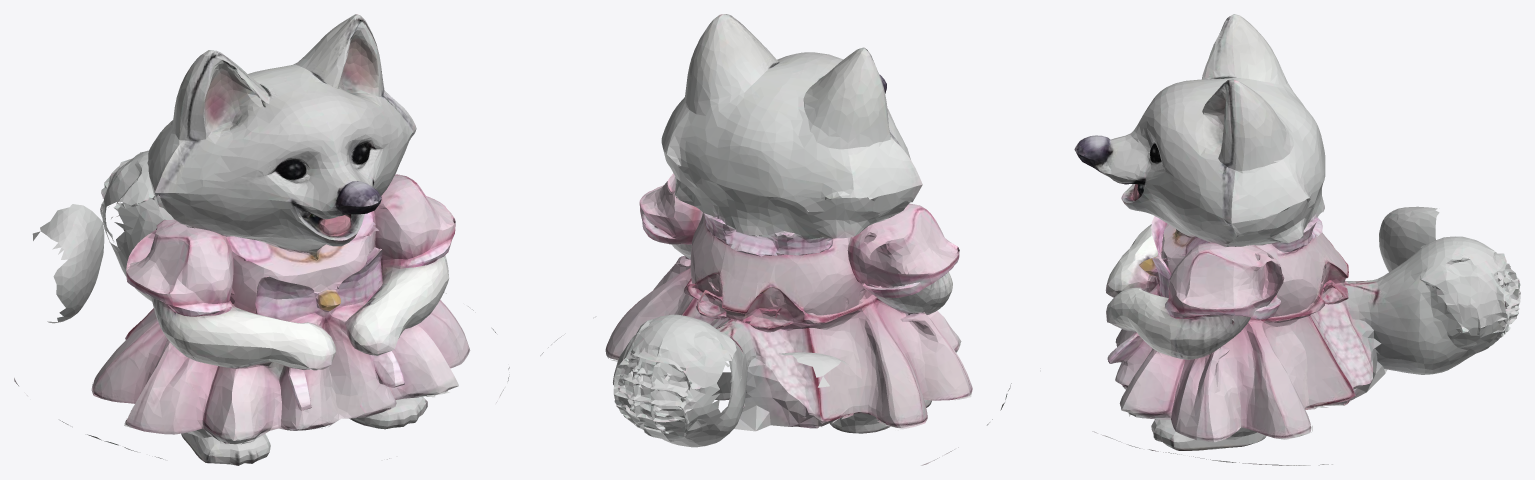
File: char_jujuya.glb
3 views of the same model, side by side, from view 1: azimuth 30°, elevation 25°; view 2: azimuth 150°, elevation 25°; view 3: azimuth 270°, elevation 25° (orthographic). The views are drawn at different scales.
Parts seen in each view (by area): view 1: char_jujuya_model; view 2: char_jujuya_model; view 3: char_jujuya_model.
Boxes of the visible parts, x1,y1,x2,y2 form: char_jujuya_model: (14, 14, 509, 465); char_jujuya_model: (540, 14, 1011, 465); char_jujuya_model: (1074, 14, 1520, 465).
Bounding box in the file's own units: 1.09 × 0.9444 × 1.15.
1 material, 1 textured.
